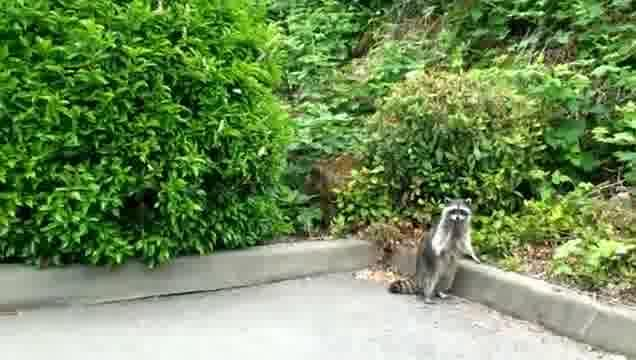raccoon: (388, 196, 481, 306)
